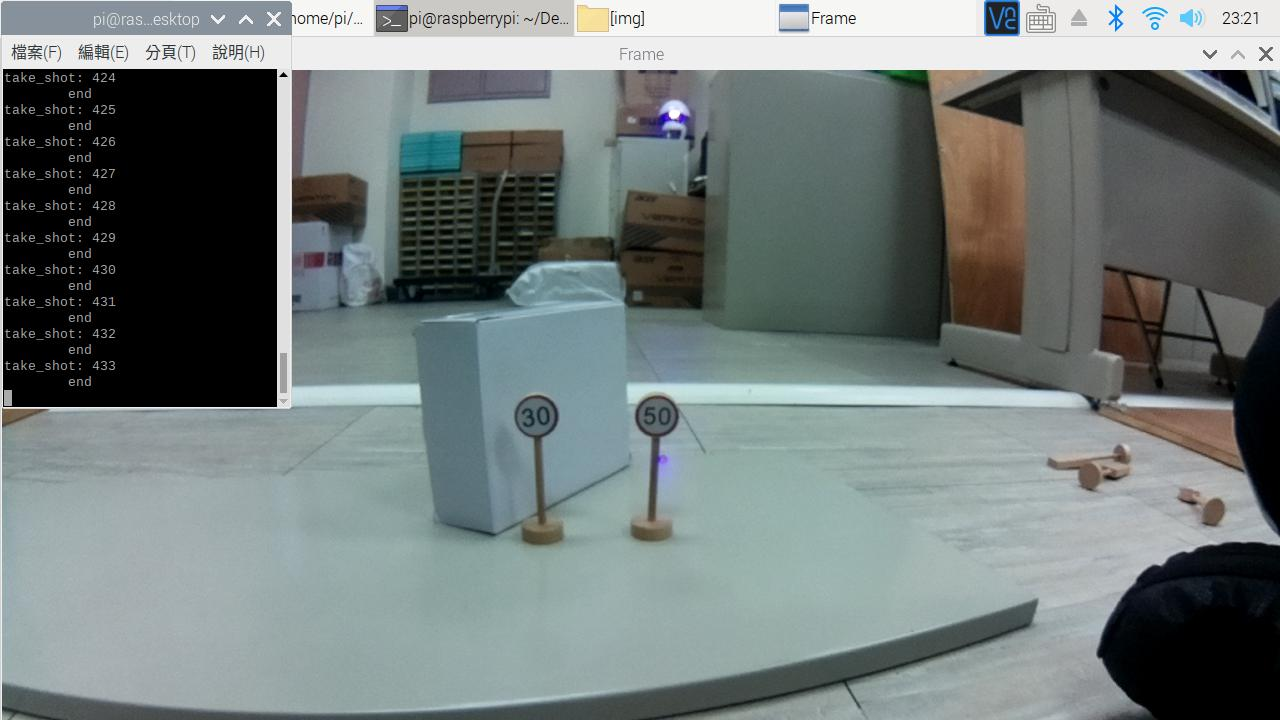Speed30: (503, 382, 566, 447)
Speed50: (619, 387, 697, 446)
